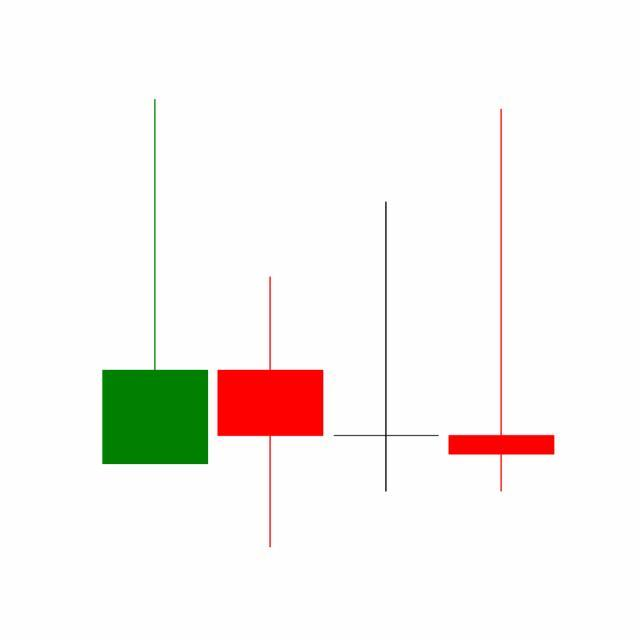Spinning Top: (329, 199, 445, 495)
